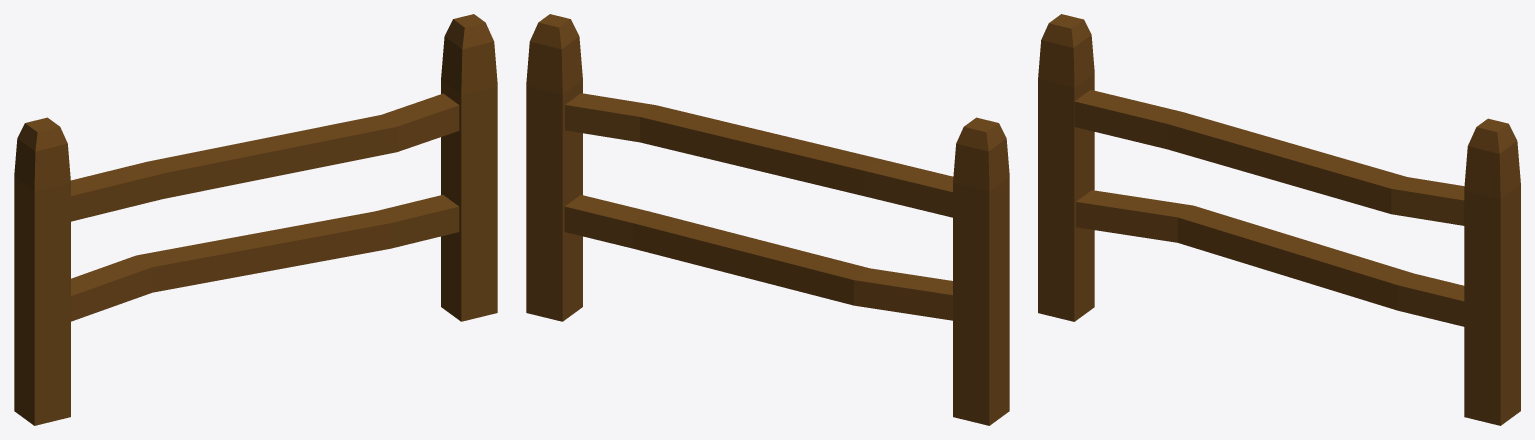
The model's file is Fence.fbx.
3 renders of one model, left to right at view 1: azimuth 30°, elevation 25°; view 2: azimuth 150°, elevation 25°; view 3: azimuth 330°, elevation 25°, orthographic.
Visible parts, largest first — view 1: Cube.004, Cube.007, Cube.006, Cube.005; view 2: Cube.004, Cube.006, Cube.007, Cube.005; view 3: Cube.005, Cube.007, Cube.006, Cube.004.
Boxes of the visible parts, bbox=[...] form: Cube.004: bbox=[14, 117, 70, 425]; Cube.007: bbox=[71, 93, 459, 221]; Cube.006: bbox=[71, 195, 459, 321]; Cube.005: bbox=[441, 14, 497, 321]; Cube.004: bbox=[953, 117, 1009, 425]; Cube.006: bbox=[564, 195, 952, 320]; Cube.007: bbox=[565, 93, 953, 217]; Cube.005: bbox=[526, 14, 582, 321]; Cube.005: bbox=[1464, 118, 1520, 425]; Cube.007: bbox=[1074, 90, 1464, 225]; Cube.006: bbox=[1076, 190, 1464, 326]; Cube.004: bbox=[1038, 14, 1094, 321].
Size of the model in its own units: 190 by 113 by 22.42.
